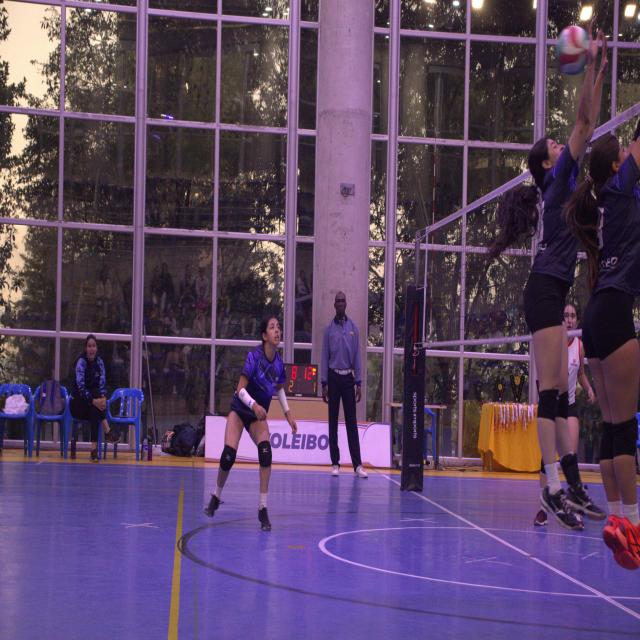volleyball: (556, 24, 592, 73)
